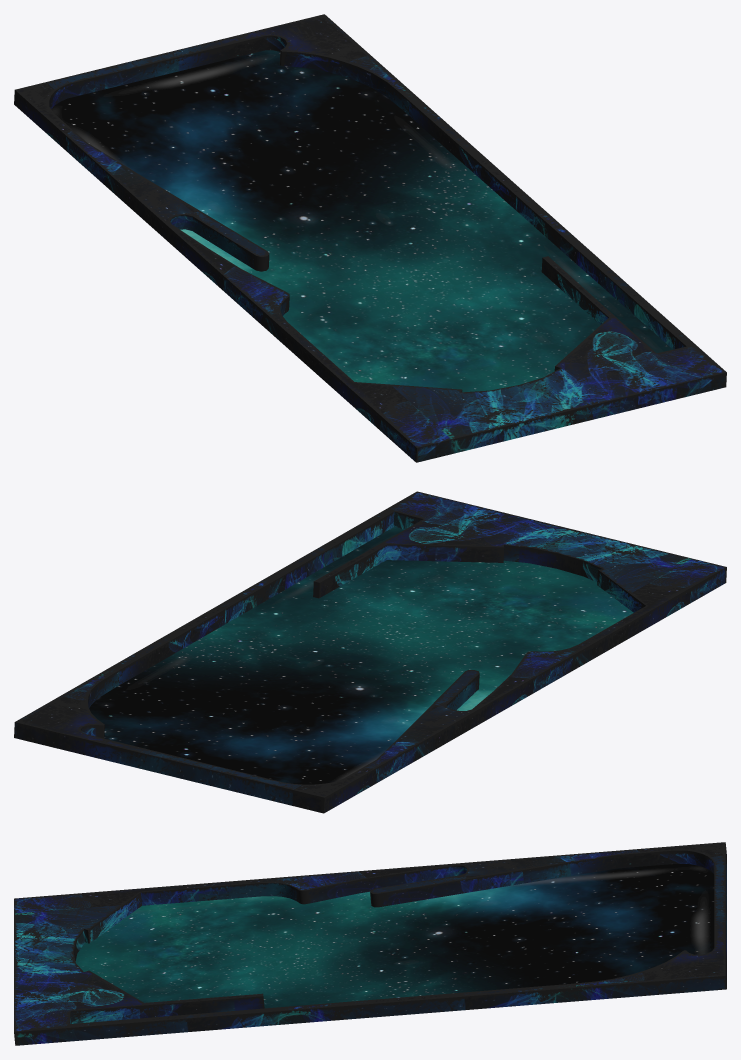
The model's file is Board.glb.
The picture shows the model from 3 angles, top to bottom: view 1: azimuth 30°, elevation 25°; view 2: azimuth 150°, elevation 25°; view 3: azimuth 270°, elevation 25°; orthographic projection. The views are drawn at different scales.
Visible parts, largest first — view 1: BoardSurface; view 2: BoardSurface; view 3: BoardSurface.
Part boxes in pixels (x1,y1,x2,y2): BoardSurface: (14,14,726,462); BoardSurface: (14,491,726,813); BoardSurface: (14,842,726,1045).
Bounding box in the file's own units: 0.8787 × 0.2143 × 1.98.
Materials: 1 (1 with a texture image).
